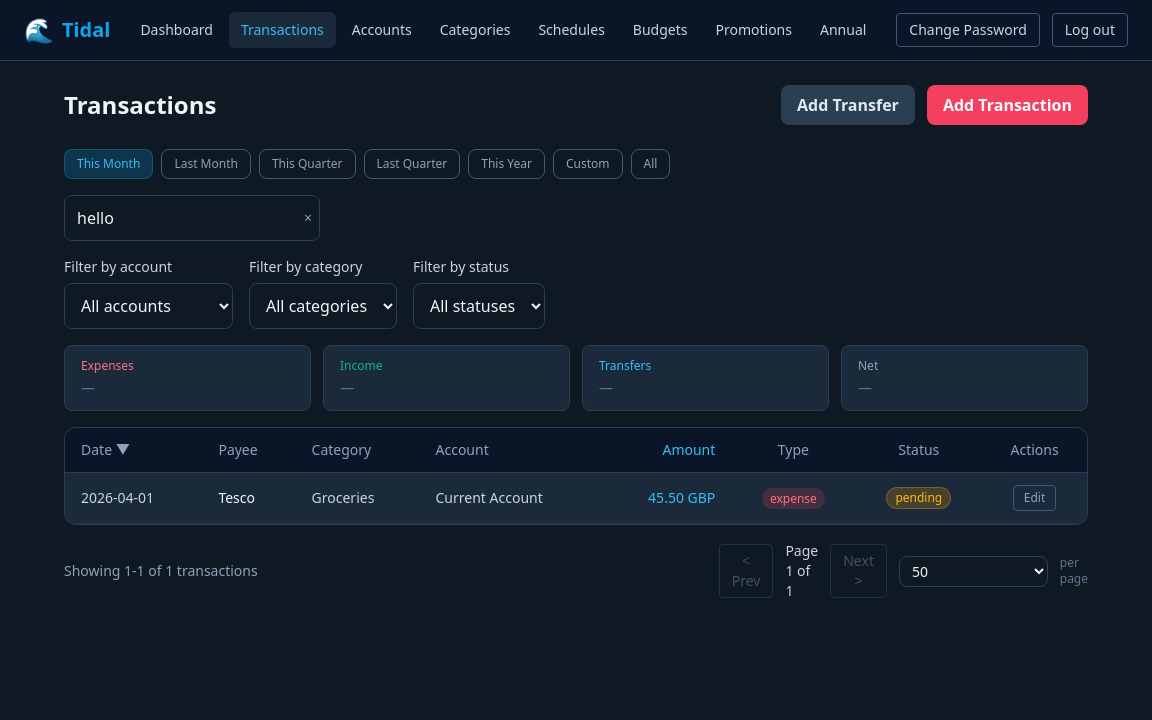
TransactionsPage › clears search param when clear button is clicked
The image size is (1152, 720).
Expected: the text "Tesco" is shown, top-left (202, 472), bottom-right (296, 524)
// Clear button should be visible because search is pre-filled
Click the button named "clear search" at x=308, y=218, box top-left (304, 211), bottom-right (312, 225)
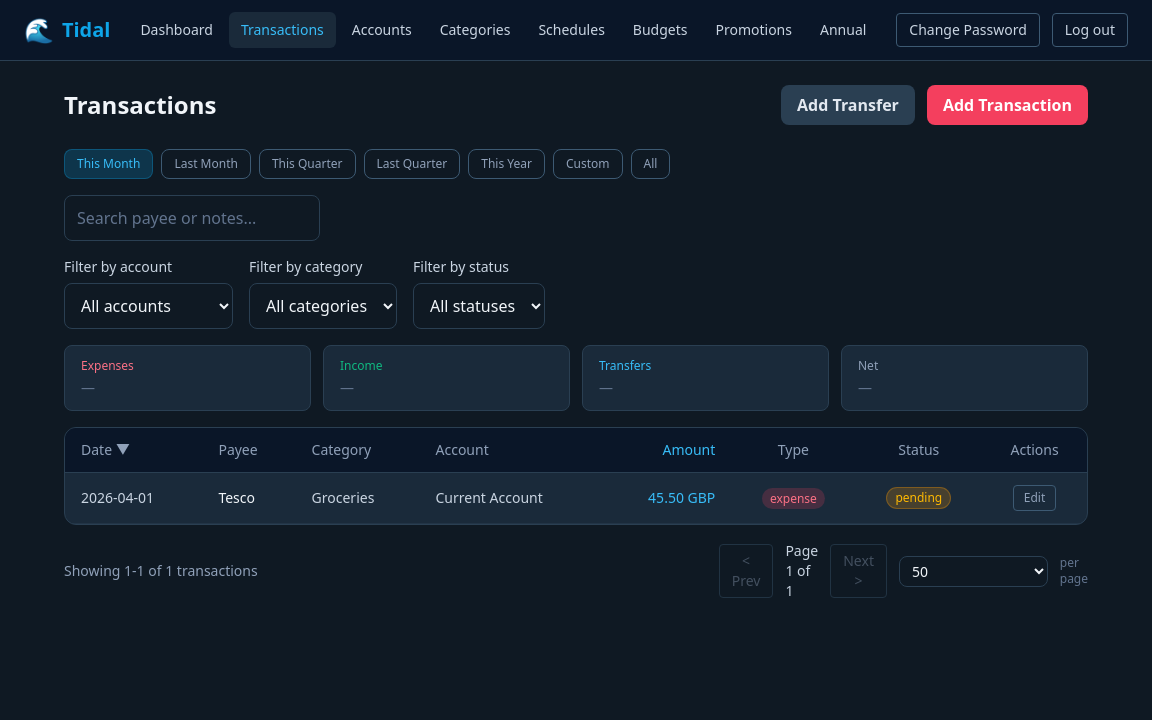
Result: the field with placeholder "Search payee or notes..." is empty at top-left (64, 195), bottom-right (320, 241)
